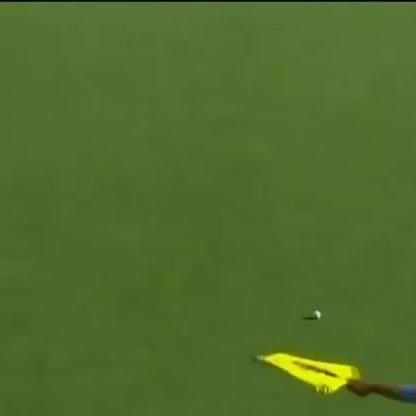golfball: (308, 309, 321, 320)
